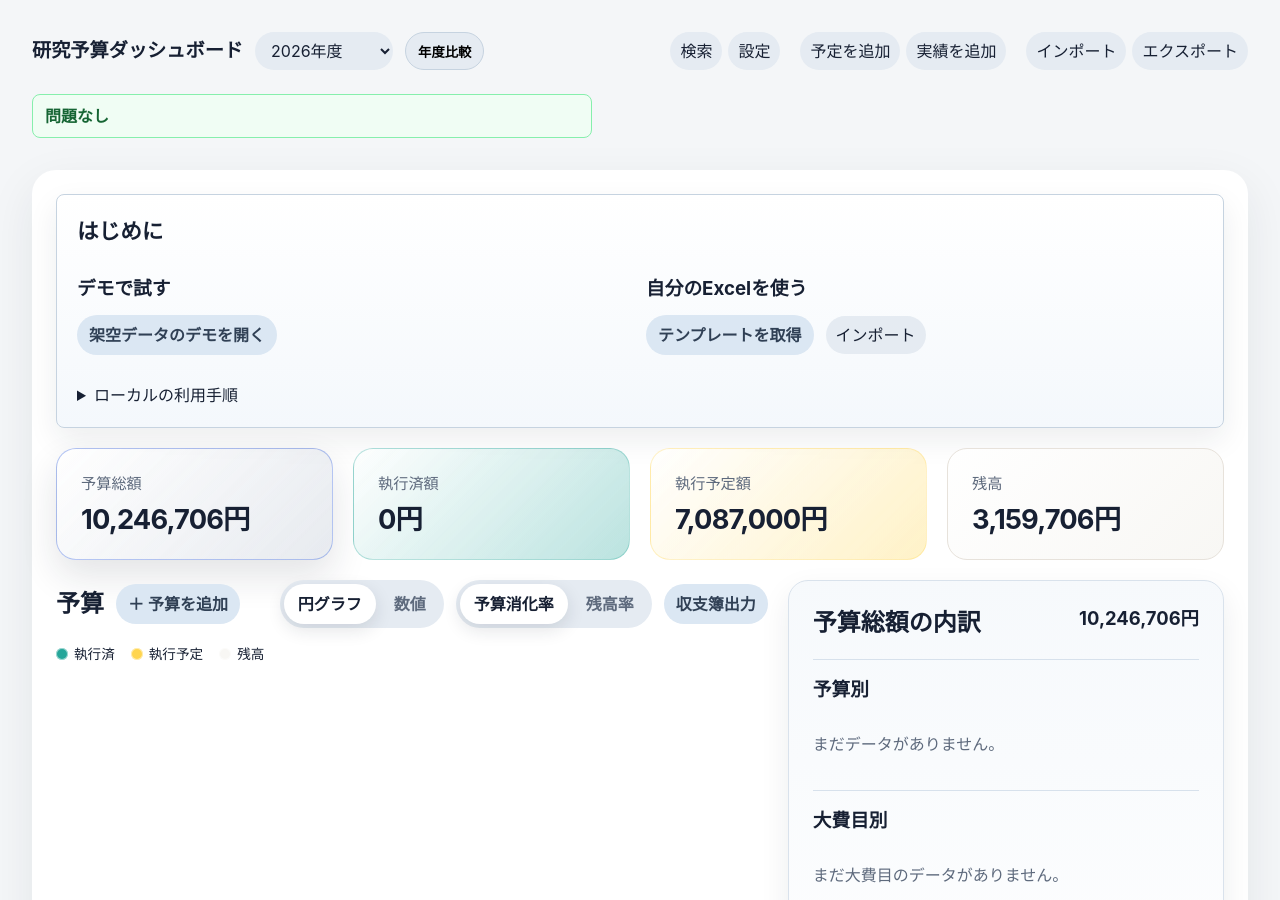
Overview navigation › opens planned item creation from the global nav as a modal while keeping the overview page visible
Expected: the heading "予算" is shown, left=56, top=586, right=104, bottom=622
Expected: the button "インポート" next to "実績を追加" is shown, left=1026, top=32, right=1126, bottom=70
Click the link "予定を追加" at (850, 51), box left=800, top=32, right=900, bottom=70
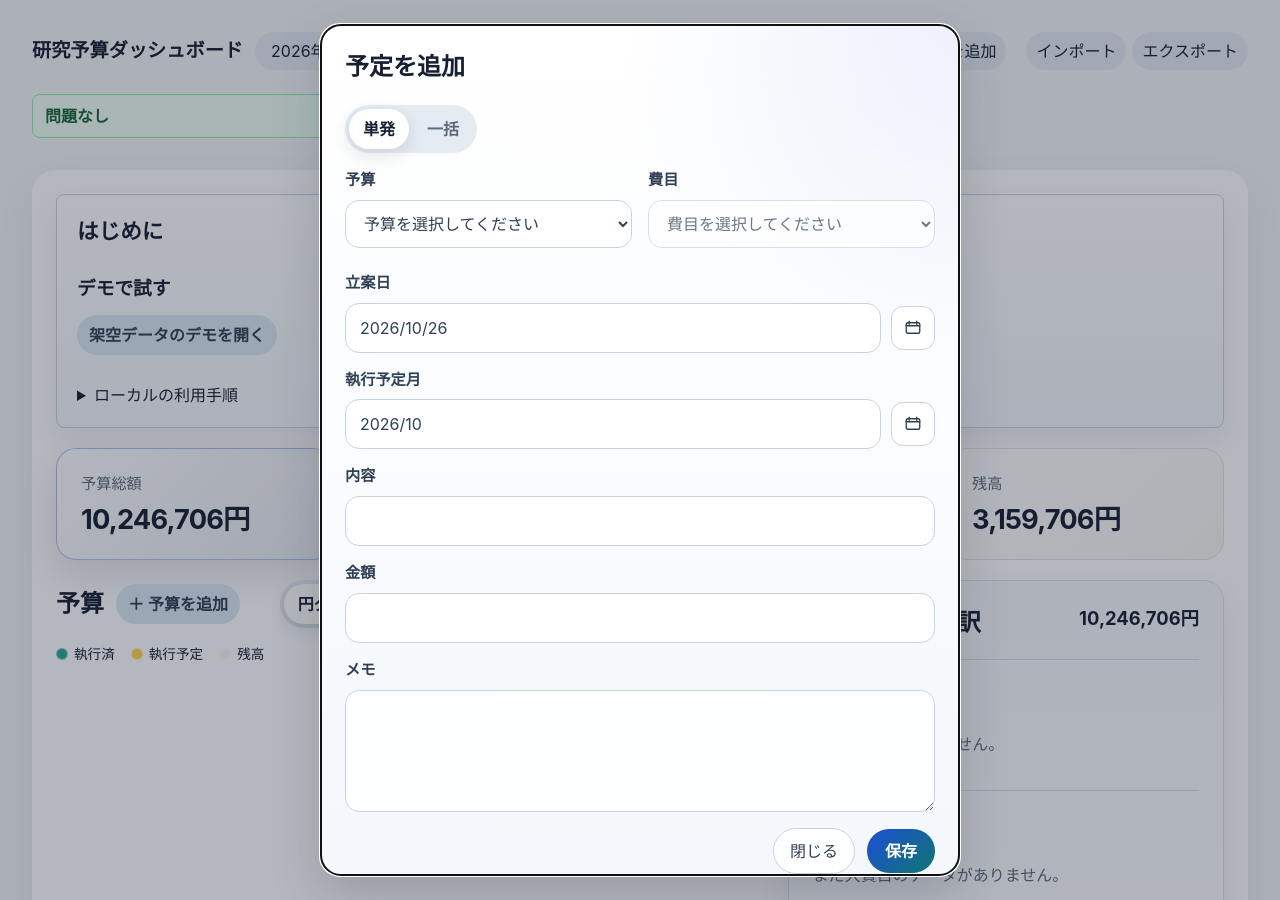
Expected: the heading "予算" is shown, left=56, top=586, right=104, bottom=622
Expected: the button "閉じる" is shown, left=773, top=828, right=855, bottom=874
